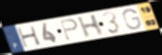3: (102, 10, 122, 35)
4: (43, 21, 59, 45)
G: (121, 8, 143, 31)
H: (77, 13, 105, 39), (16, 24, 43, 49)
P: (58, 18, 79, 42)
